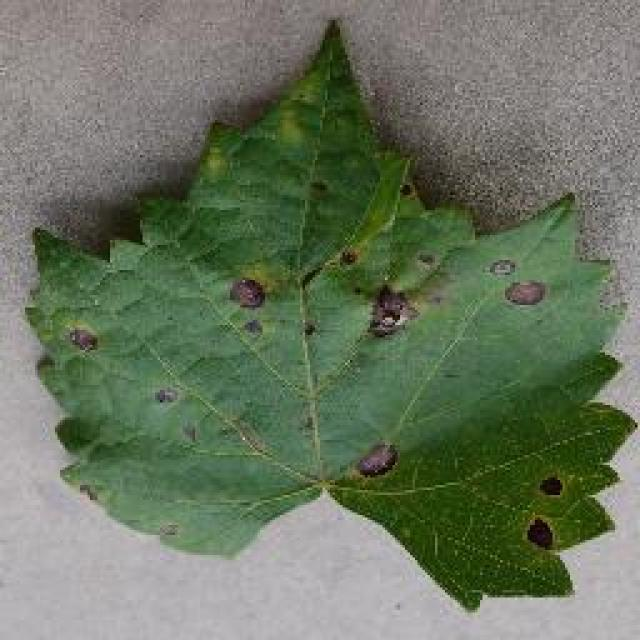Grape___Black_rot: (21, 11, 638, 624)
